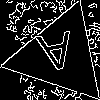A: (34, 31, 79, 83)
